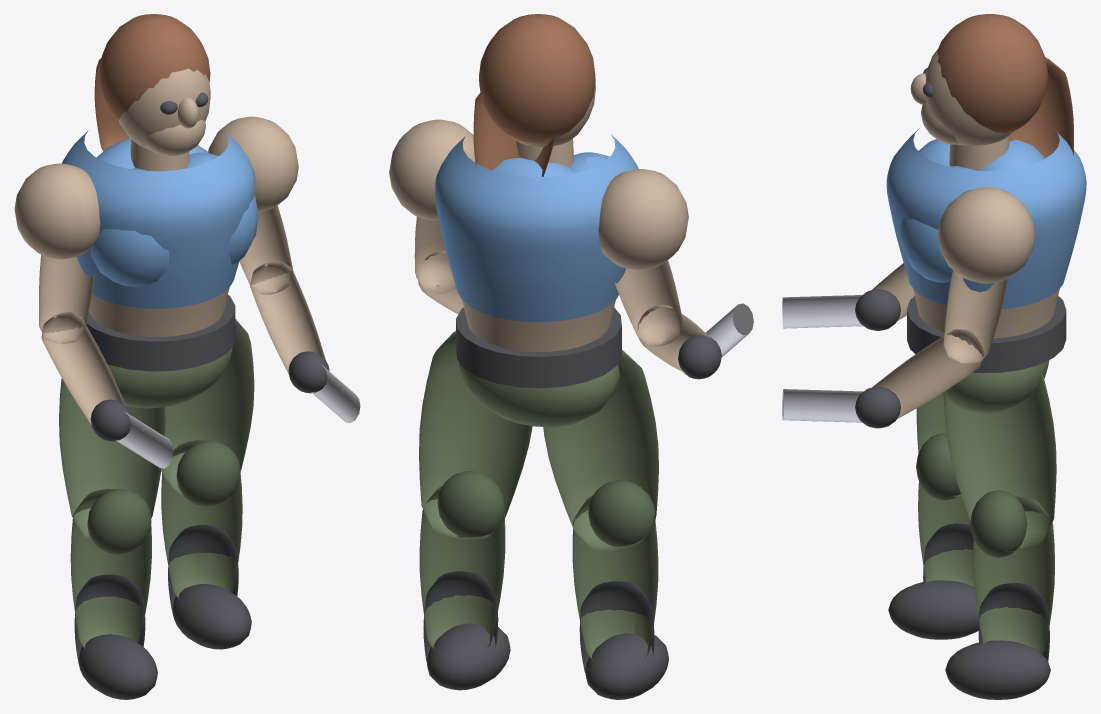
File: tany.glb
3 renders of one model, left to right at view 1: azimuth 30°, elevation 25°; view 2: azimuth 150°, elevation 25°; view 3: azimuth 270°, elevation 25°, orthographic. The views are drawn at different scales.
Visible parts, largest first — view 1: Hull; view 2: Hull; view 3: Hull.
Part boxes in pixels (box(x1,y1,x2,y2)): Hull: box(14, 14, 360, 699); Hull: box(389, 14, 753, 699); Hull: box(782, 14, 1086, 699).
Bounding box in the file's own units: 0.4194 × 0.949 × 0.4039.
